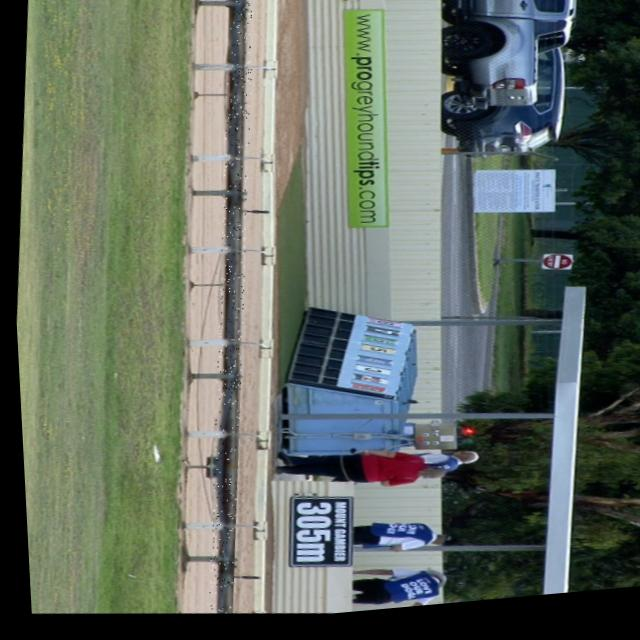rail: (206, 0, 246, 617)
